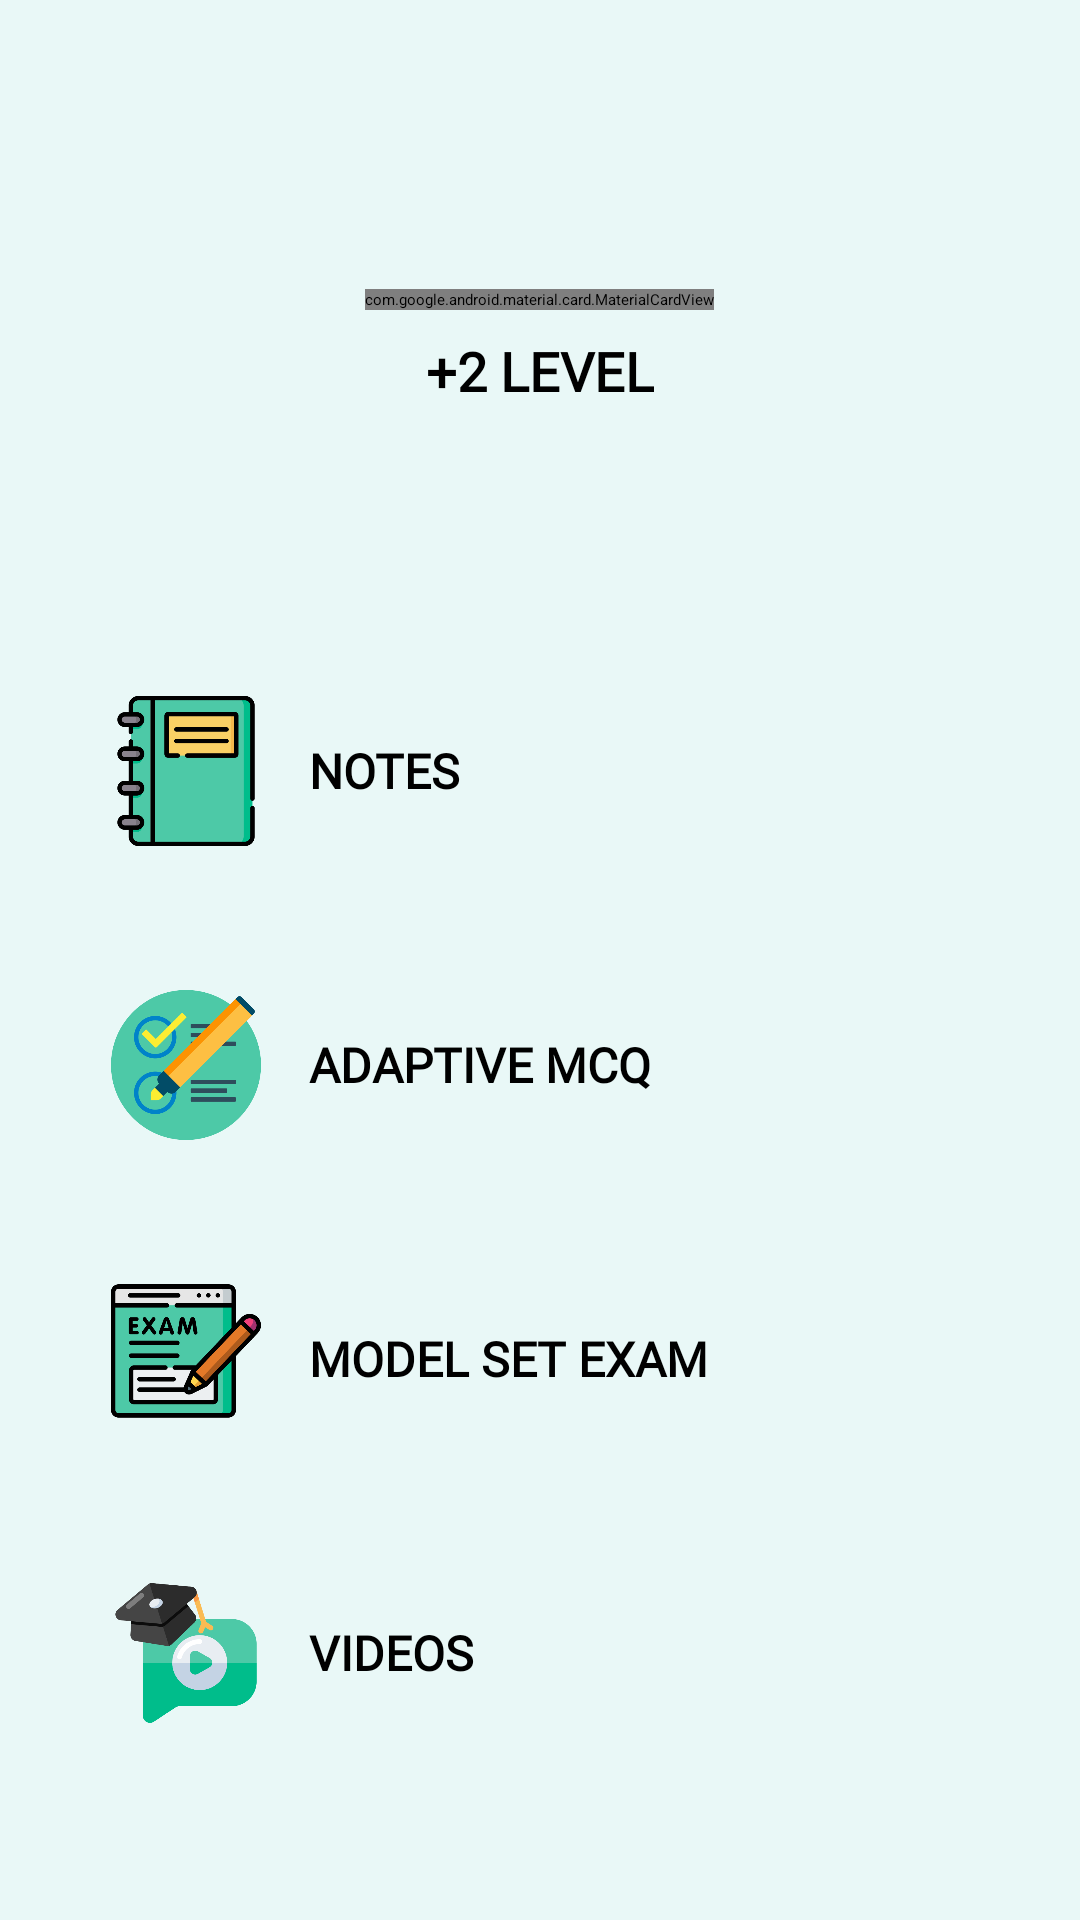

Icons on this 1080x1920 Android screen, each with the point to tap as (x=x, y=y):
notebook: (x=186, y=771)
video learning: (x=186, y=1653)
